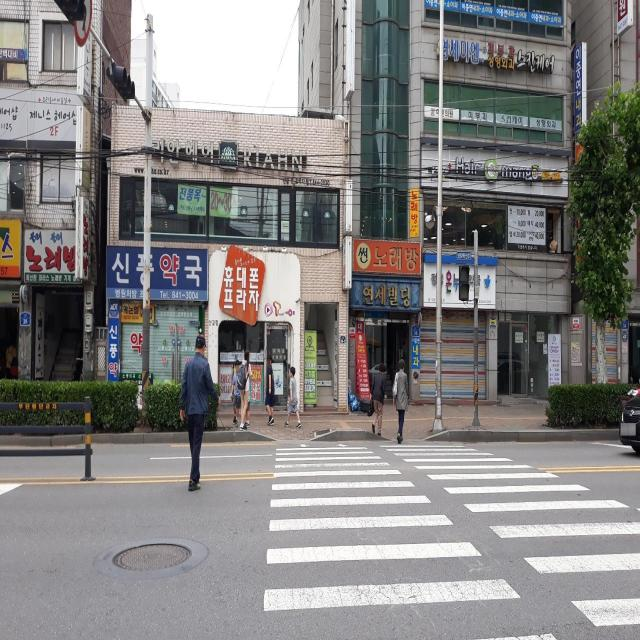횡단보도: (261, 439, 640, 640)
